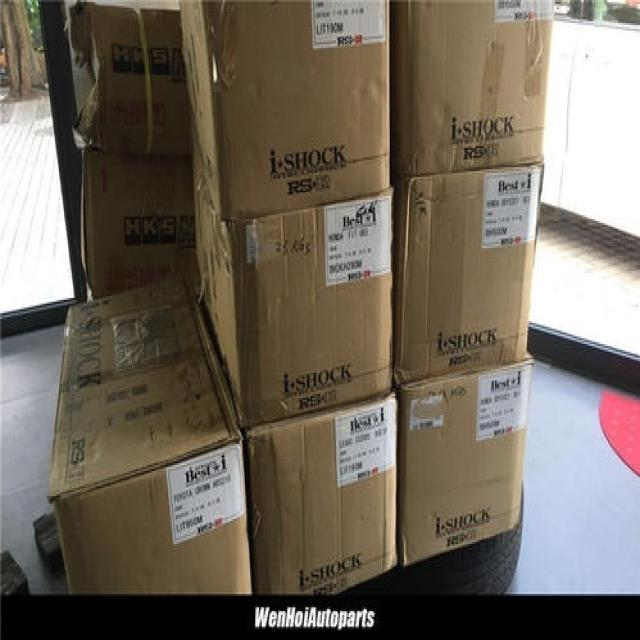box: (45, 266, 252, 597), (194, 141, 393, 431), (180, 1, 390, 220), (393, 165, 543, 389), (244, 390, 398, 597), (390, 1, 555, 179), (398, 358, 531, 566), (73, 131, 196, 296), (65, 1, 192, 159)
